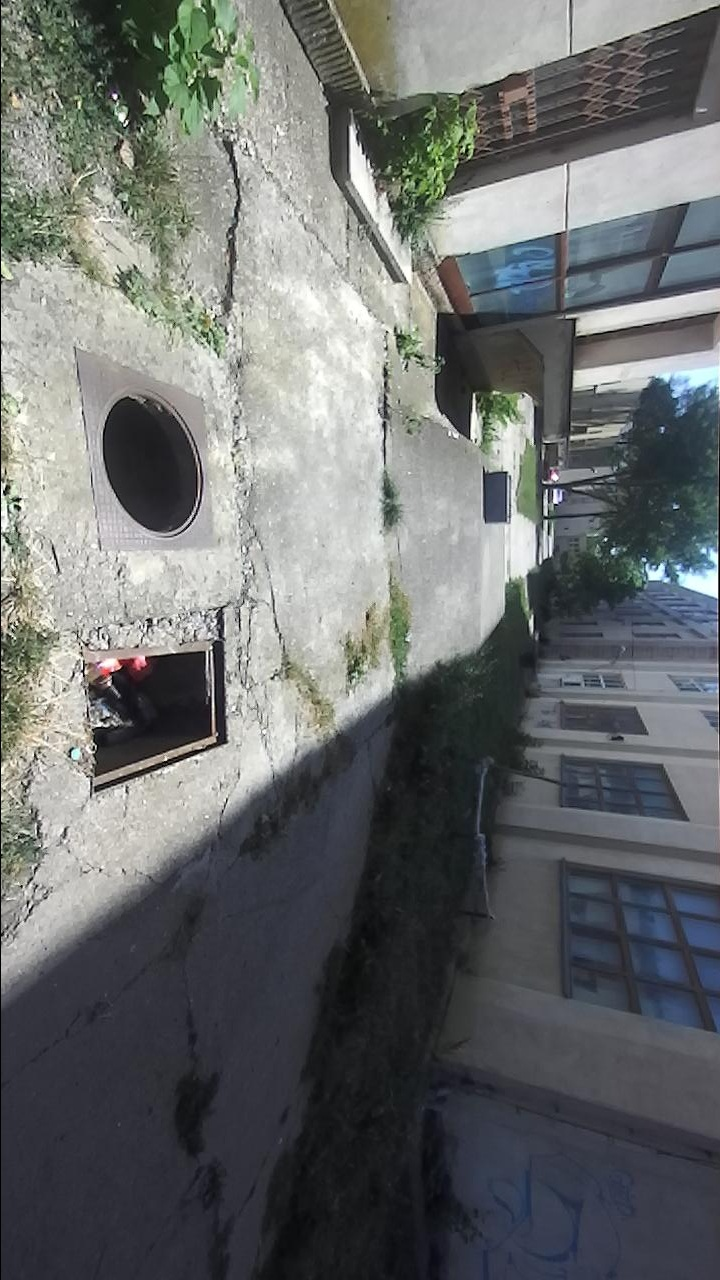drain: (83, 635, 232, 805), (97, 379, 209, 546)
